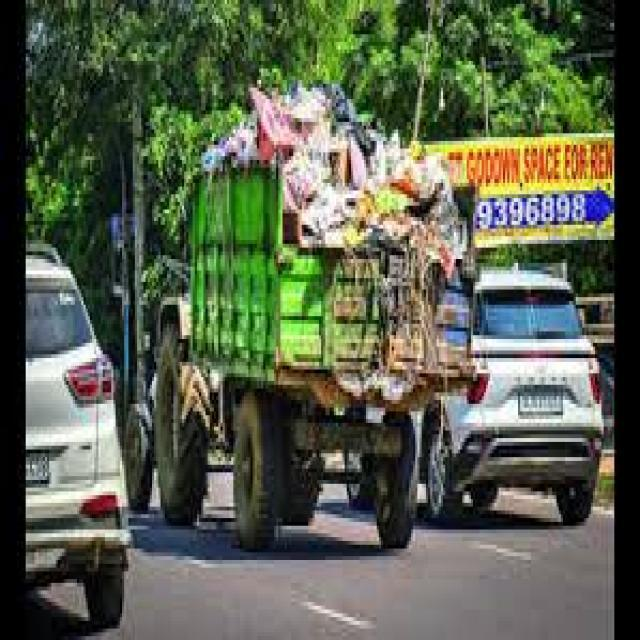uncovered: (176, 85, 462, 528)
